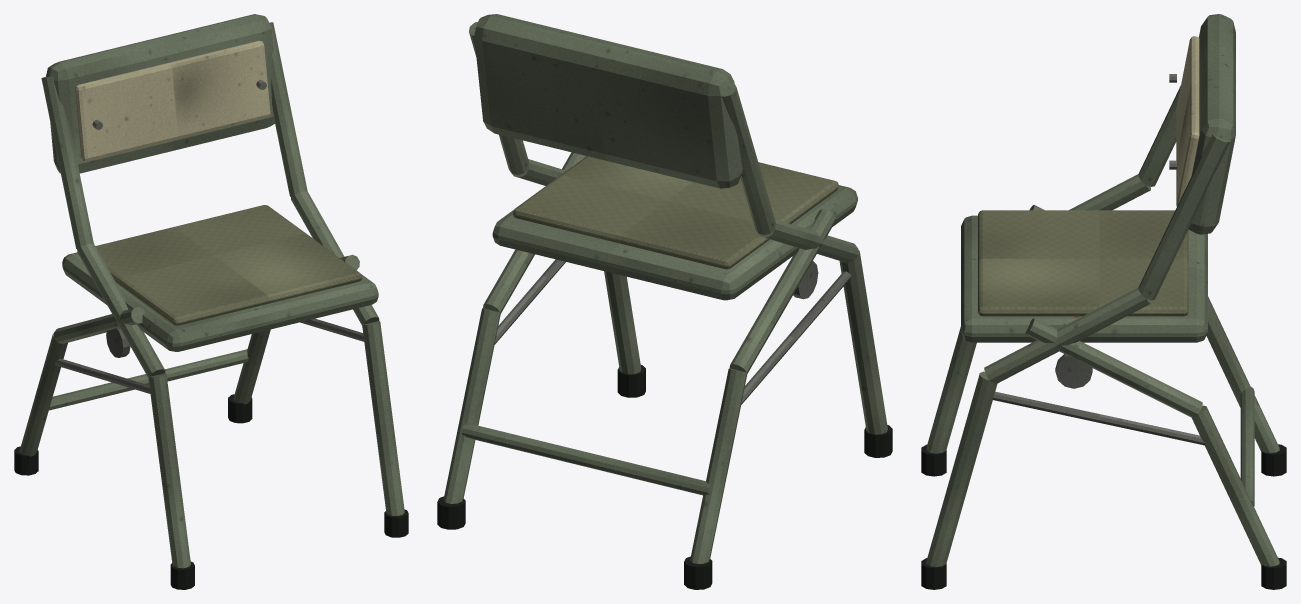
File: chair_metal_folding.glb
The picture shows the model from 3 angles, left to right: view 1: azimuth 30°, elevation 25°; view 2: azimuth 150°, elevation 25°; view 3: azimuth 270°, elevation 25°; orthographic projection. The views are drawn at different scales.
Parts seen in each view (by area): view 1: F04_chair_metal_folding; view 2: F04_chair_metal_folding; view 3: F04_chair_metal_folding.
Boxes of the visible parts, x1=… form: F04_chair_metal_folding: x1=14, y1=14, x2=408, y2=589; F04_chair_metal_folding: x1=437, y1=14, x2=892, y2=589; F04_chair_metal_folding: x1=921, y1=14, x2=1286, y2=589.
Bounding box in the file's own units: 0.508 × 0.8758 × 0.6287.
6 materials, 5 textured.
